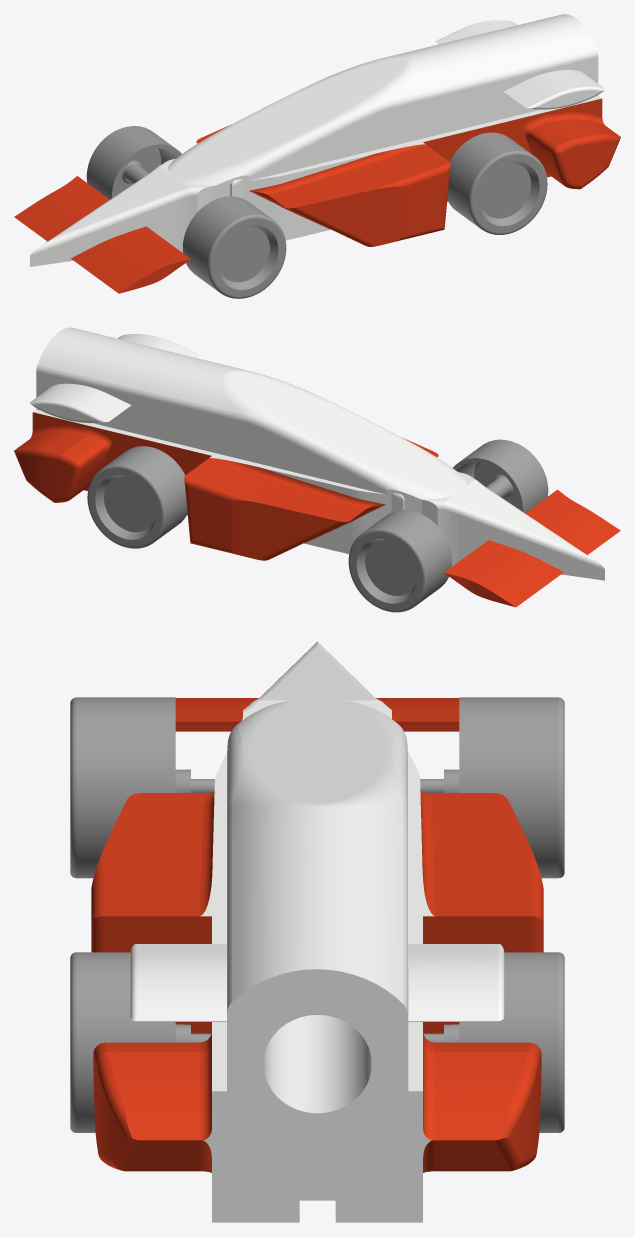
The picture shows the model from 3 angles, top to bottom: view 1: azimuth 30°, elevation 25°; view 2: azimuth 150°, elevation 25°; view 3: azimuth 270°, elevation 25°; orthographic projection. The views are drawn at different scales.
Parts seen in each view (by area): view 1: Bry__a4, Bry__a1, Bry__a1.002, Bry__a1.003; view 2: Bry__a4, Bry__a1.003, Bry__a1.001, Bry__a1; view 3: Bry__a4, Bry__a1, Bry__a1.003, Bry__a1.001, Bry__a1.002.
Part boxes in pixels (x1,y1,x2,y2): Bry__a4: [14, 14, 620, 293]; Bry__a1: [183, 196, 286, 298]; Bry__a1.002: [447, 132, 547, 234]; Bry__a1.003: [86, 126, 181, 199]; Bry__a4: [14, 327, 620, 607]; Bry__a1.003: [348, 510, 452, 612]; Bry__a1.001: [87, 446, 187, 548]; Bry__a1: [453, 439, 548, 512]; Bry__a4: [91, 641, 543, 1222]; Bry__a1: [70, 697, 190, 878]; Bry__a1.003: [444, 697, 564, 878]; Bry__a1.001: [444, 952, 564, 1132]; Bry__a1.002: [70, 952, 190, 1132].
Bounding box in the file's own units: 0.3137 × 0.077 × 0.123.
